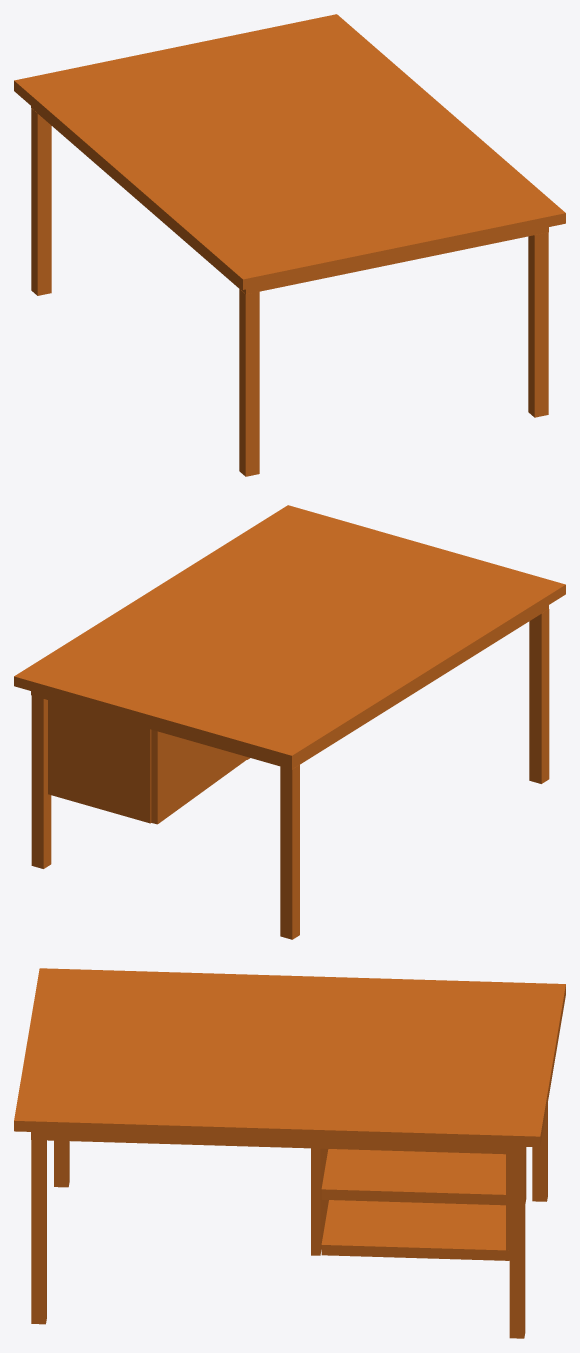
The model's file is Teacher's_Desk.fbx.
3 renders of one model, top to bottom at view 1: azimuth 30°, elevation 25°; view 2: azimuth 150°, elevation 25°; view 3: azimuth 270°, elevation 25°, orthographic. The views are drawn at different scales.
Parts seen in each view (by area): view 1: Desk; view 2: Desk; view 3: Desk.
Part boxes in pixels (box(x1,y1,x2,y2)): Desk: box(14, 14, 565, 476); Desk: box(14, 505, 565, 939); Desk: box(14, 968, 565, 1338).
Bounding box in the file's own units: 610 × 351 × 846.
